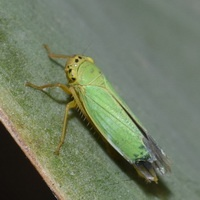insect: (25, 44, 170, 183)
